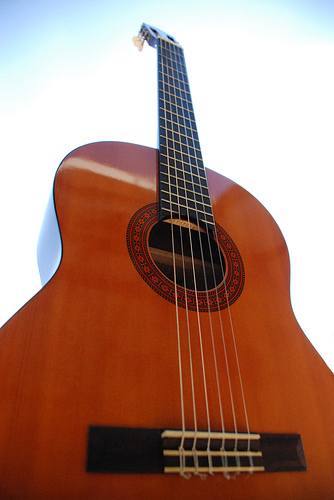guitar: (1, 20, 334, 500)
